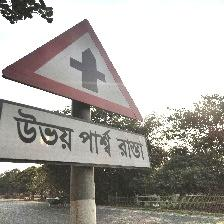Crossroad: (1, 13, 163, 176)
